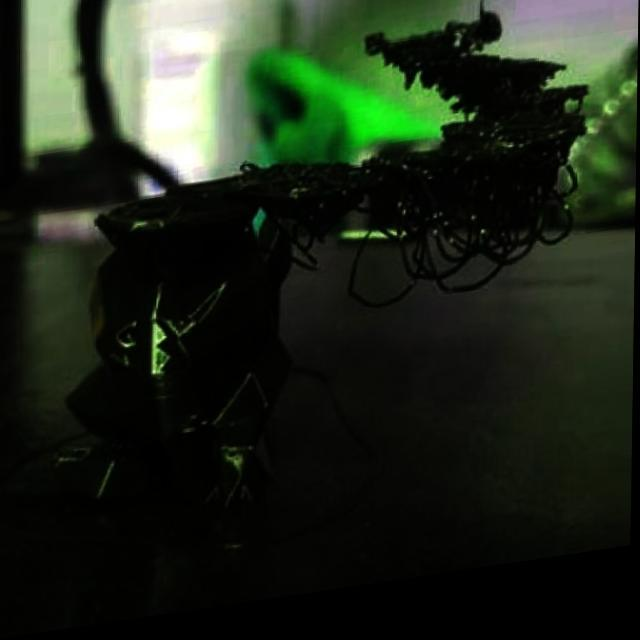spaghetti: (239, 11, 590, 338)
